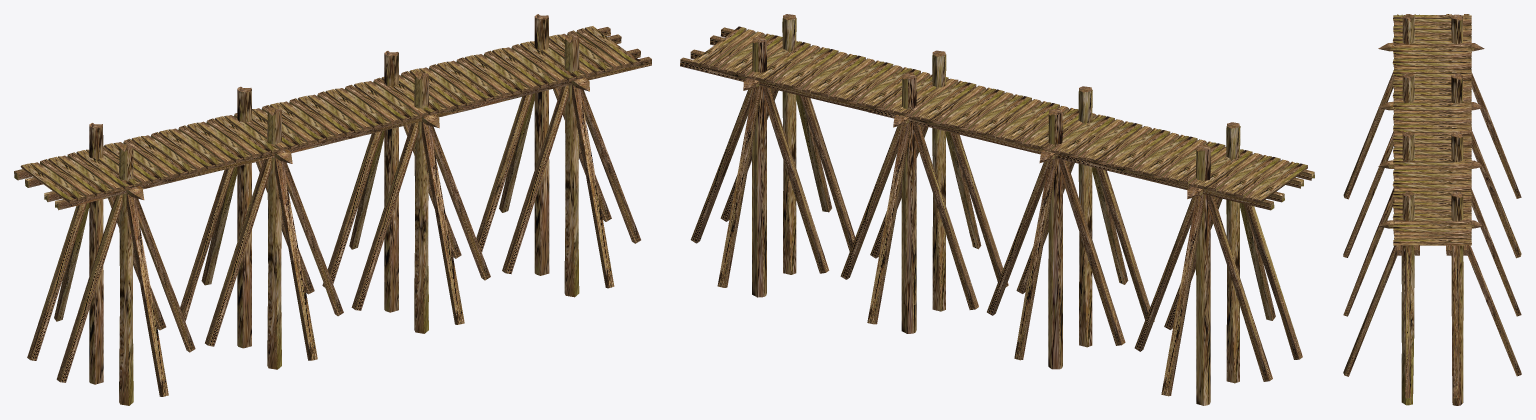
Rendered from bridge.glb.
3 views of the same model, side by side, from view 1: azimuth 30°, elevation 25°; view 2: azimuth 150°, elevation 25°; view 3: azimuth 270°, elevation 25° (orthographic). The views are drawn at different scales.
Parts seen in each view (by area): view 1: Kostka.107_0; view 2: Kostka.107_0; view 3: Kostka.107_0.
Boxes of the visible parts, box(x1,y1,x2,y2) form: Kostka.107_0: box(14, 14, 651, 405); Kostka.107_0: box(680, 14, 1314, 405); Kostka.107_0: box(1343, 14, 1521, 405).
Bounding box in the file's own units: 7.37 × 3.05 × 2.35.
2 materials, 2 textured.
